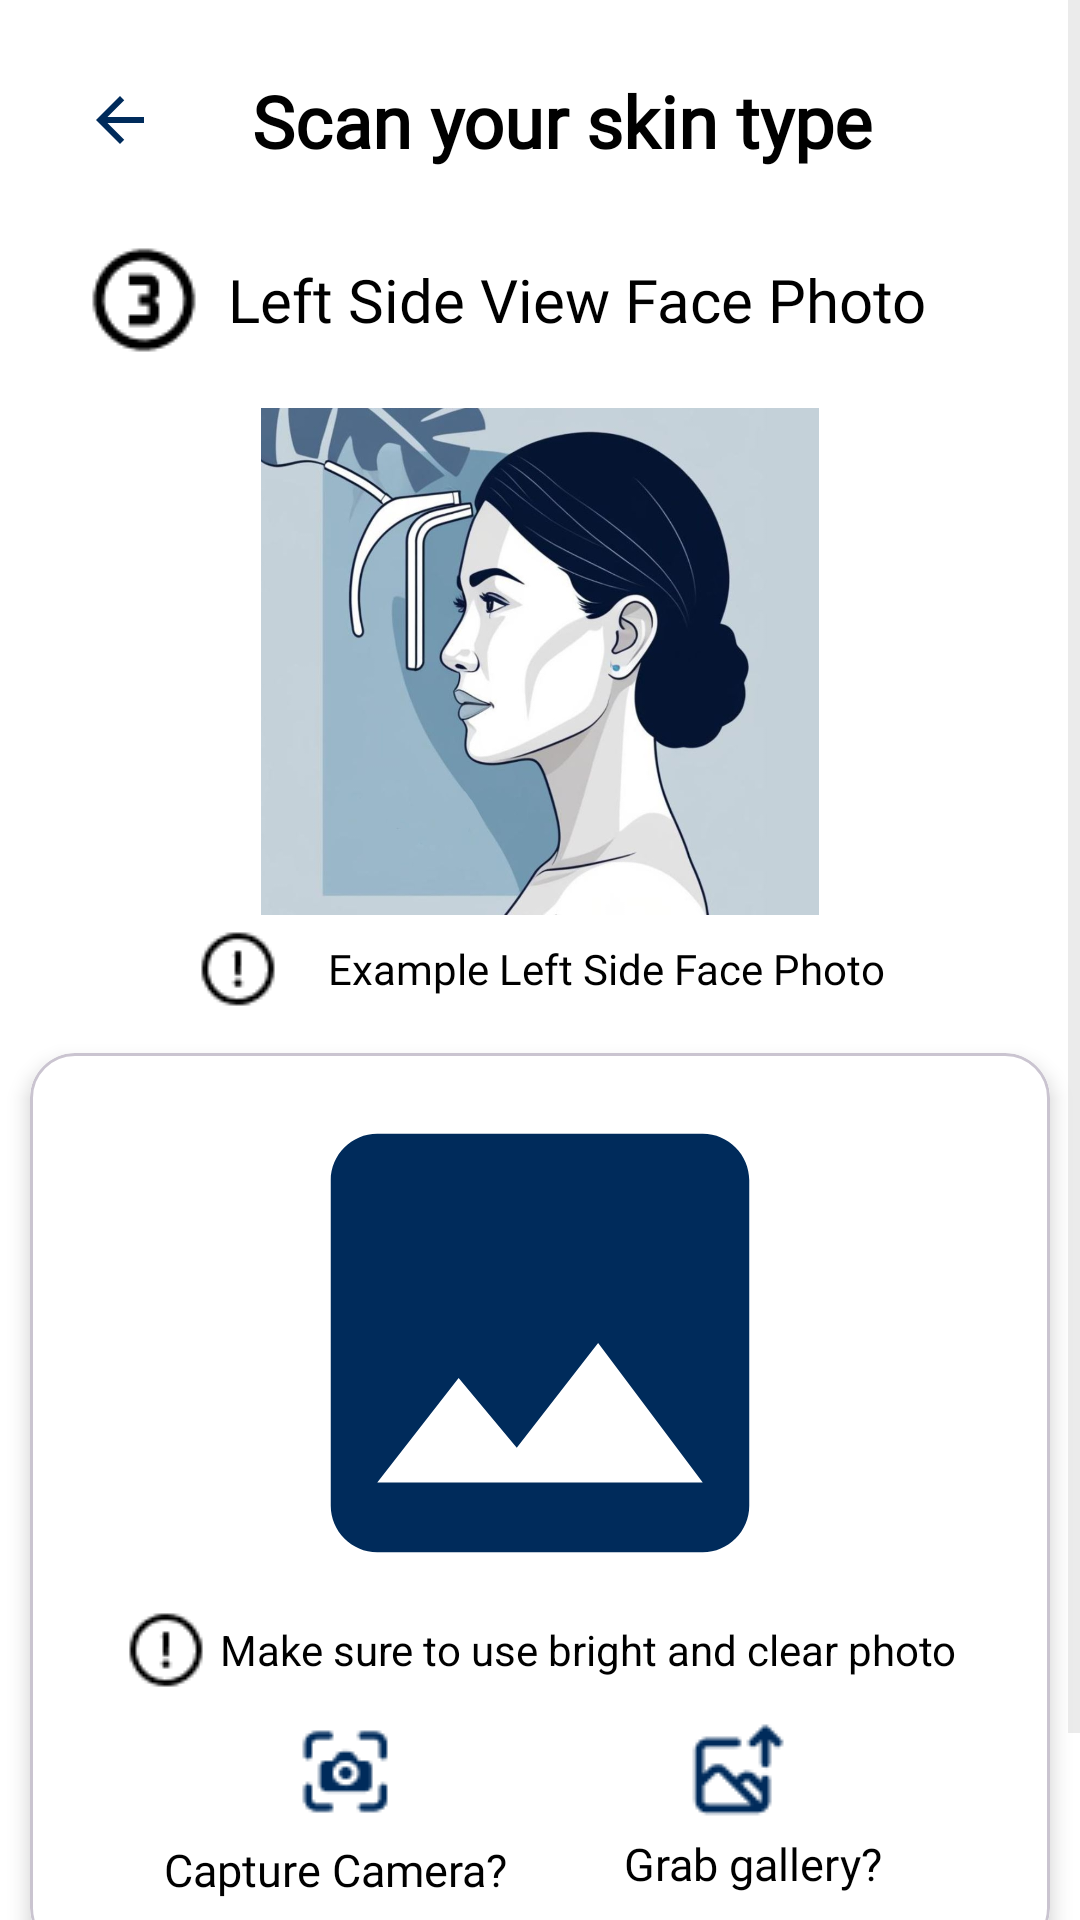

Named icons in this screenshot (1080 × 1920) and their centers, (x=x, y=y):
arrow back: (x=120, y=120)
